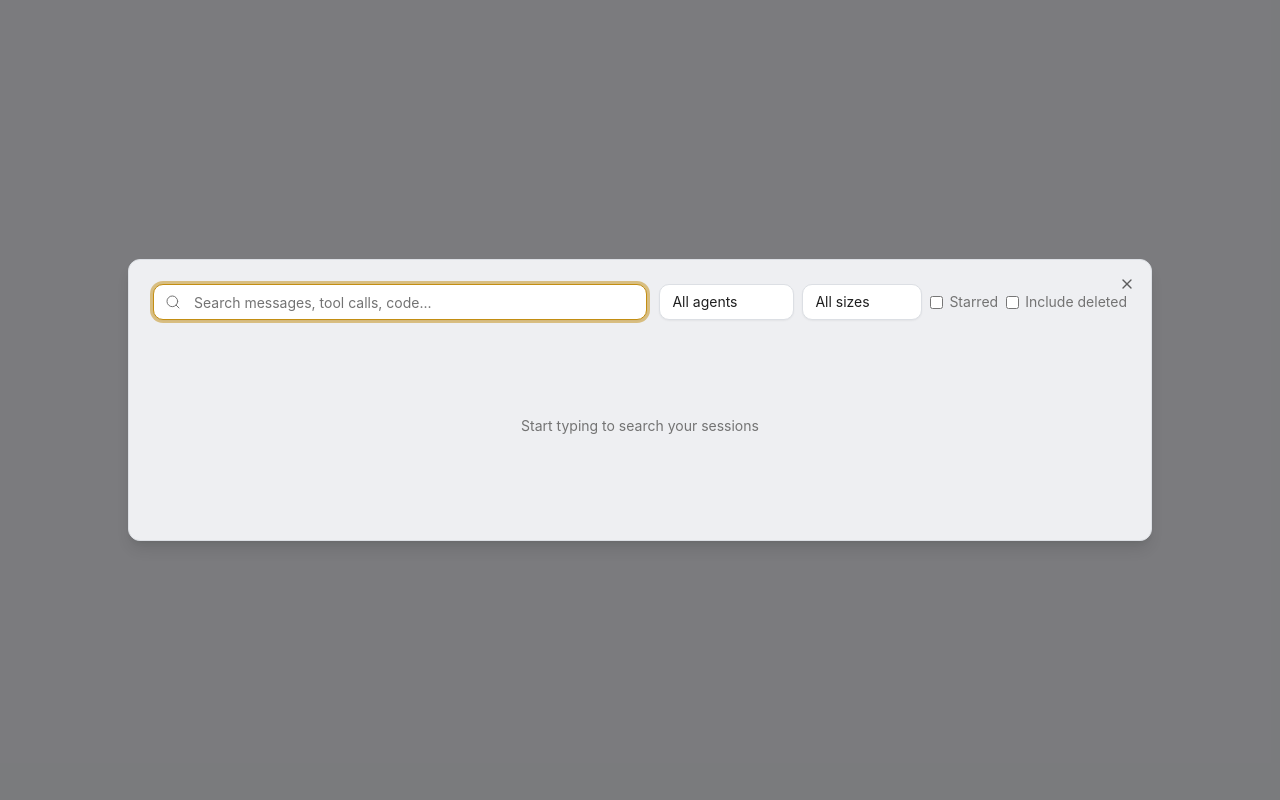
Test case: SearchDialog › shows empty state when search returns 0 results
Type "nope" into the search field with test id "search-input" at [400, 302], box [153,284,647,320]
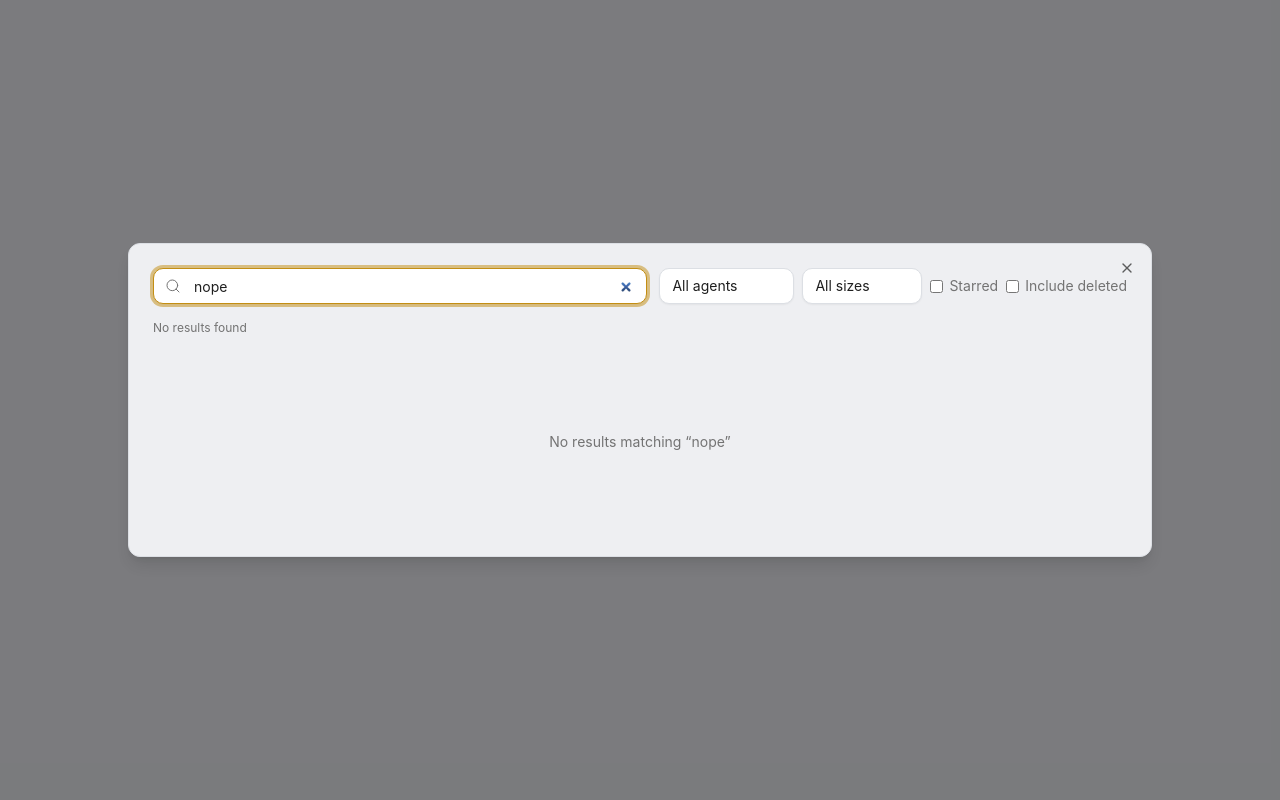
Now the text "No results matching “nope”" is shown, box [549,433,731,450]
